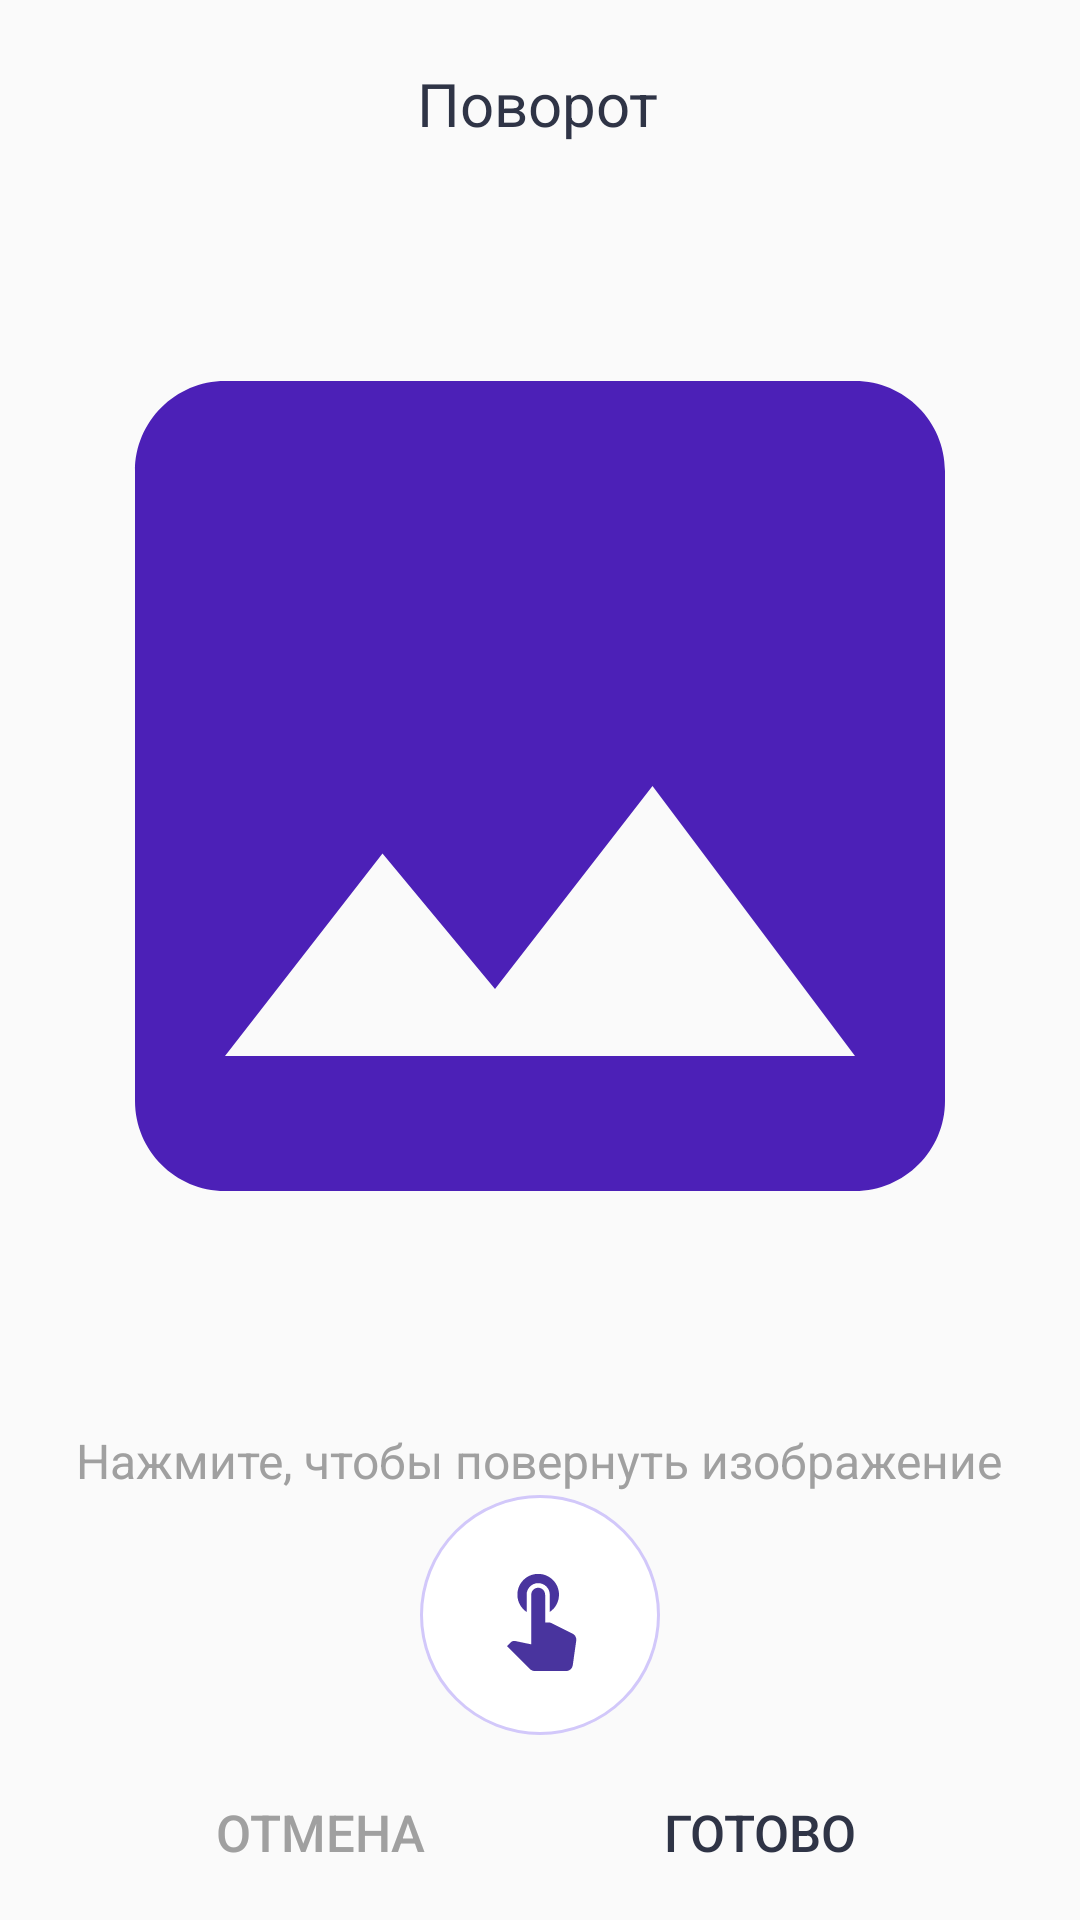

Where to tap for icons on this 1080 × 1920 app screen, as (x=x, y=y):
touch app: (x=540, y=1615)
